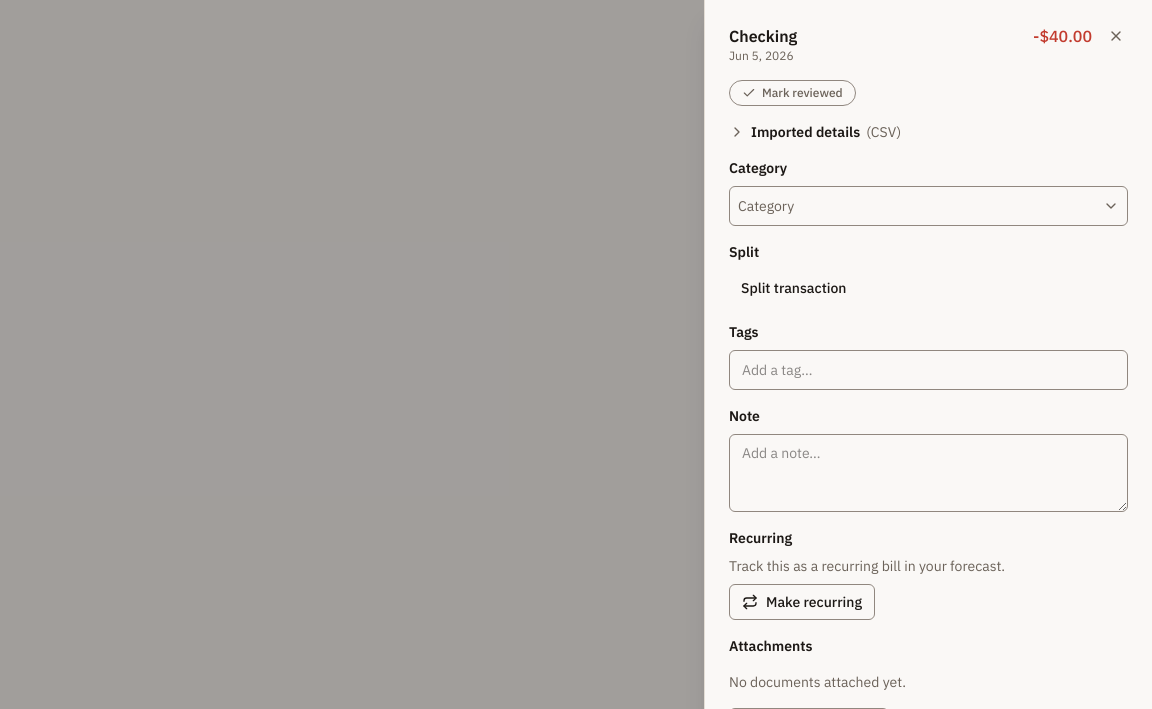
Test case: TransactionDetailDrawer › shows the raw imported fields in a collapsible Imported details section (4d8.24.1.4)
The image size is (1152, 709).
Expected: the text "Card No." is not shown
Click the button "Imported details (CSV)". click: (815, 132)
box: [729, 122, 901, 142]
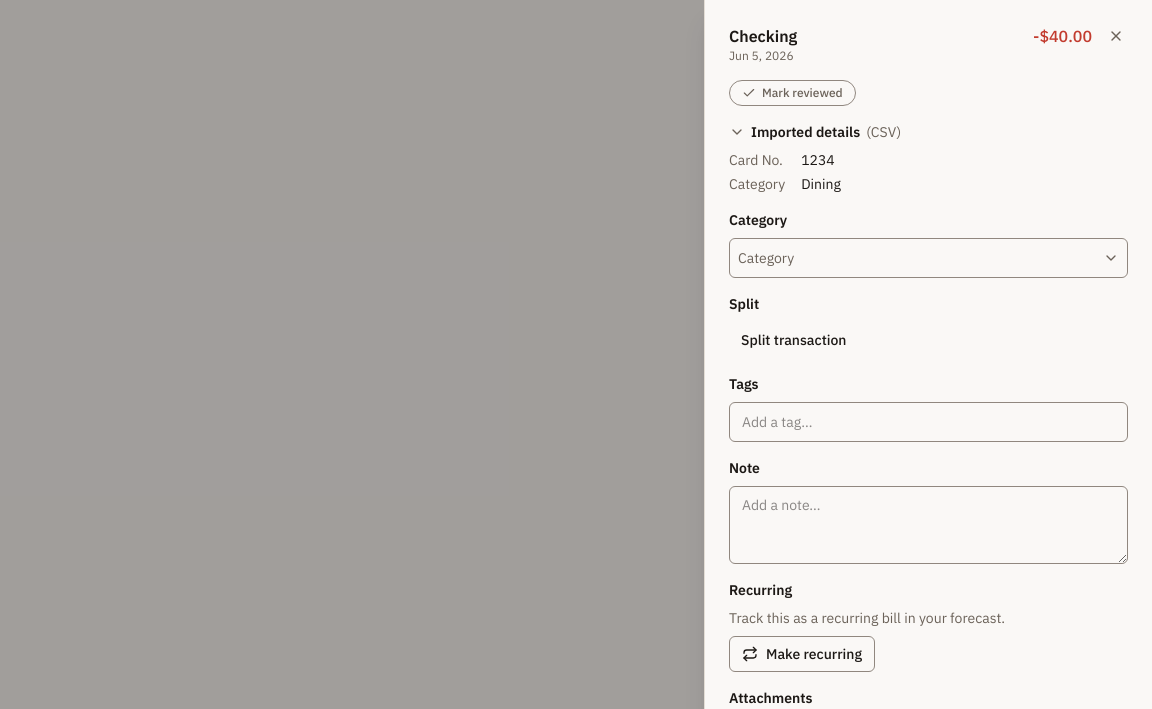
Expected: the text "Card No." is shown, [729, 150, 785, 170]
Expected: the text "1234" is shown, [801, 151, 835, 169]
Expected: the text "Category" next to "Dining" is shown, [729, 175, 785, 193]
